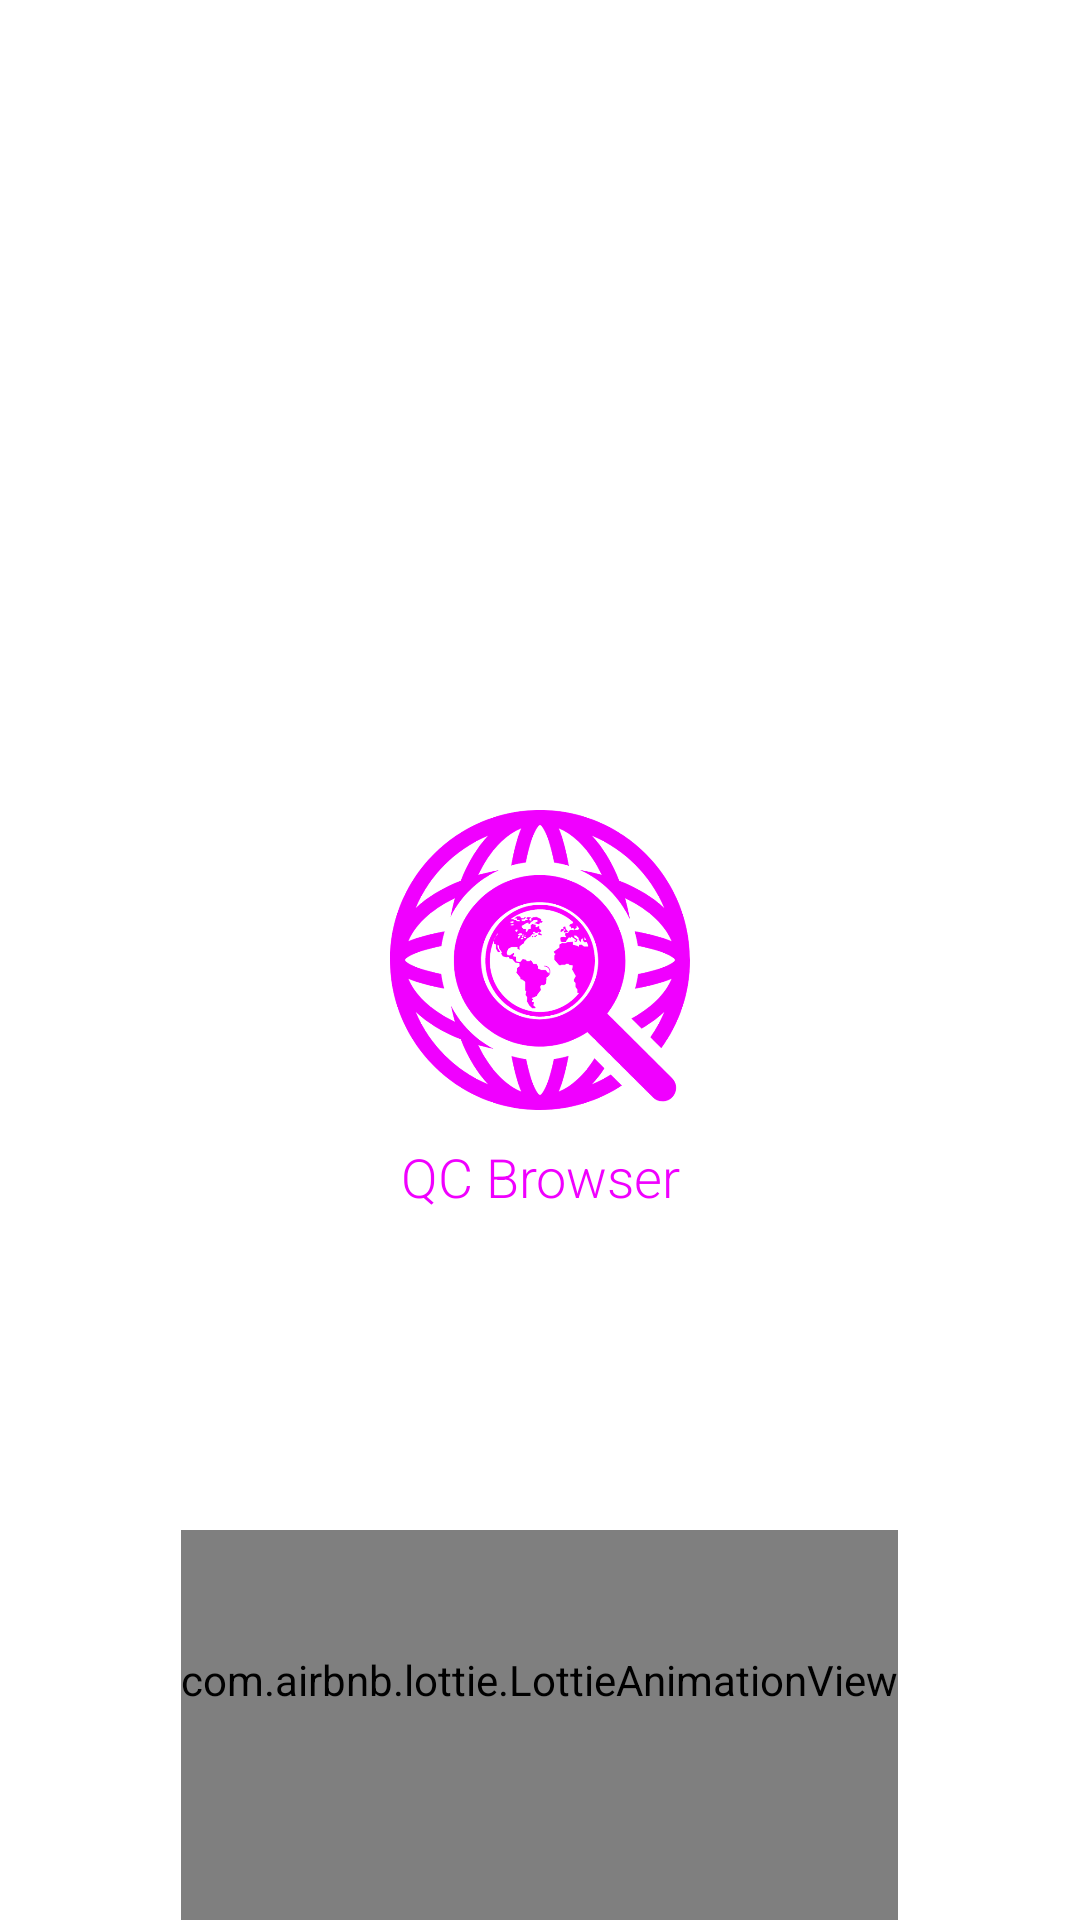

Point at icon controls on the screen. Image size 1080x1920, points as [x,y].
appicon: [540,960]
